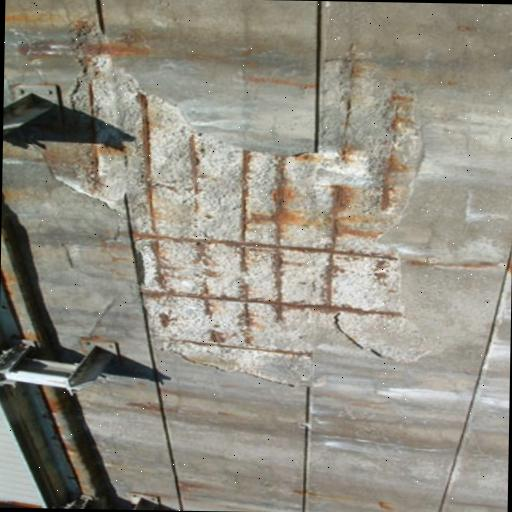spalling: (45, 22, 431, 386)
